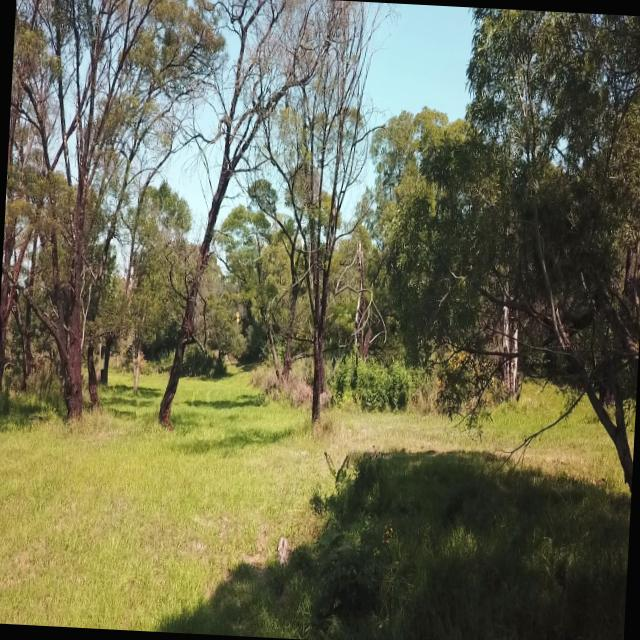Mysore-Thorn-Weed: (302, 446, 378, 624)
